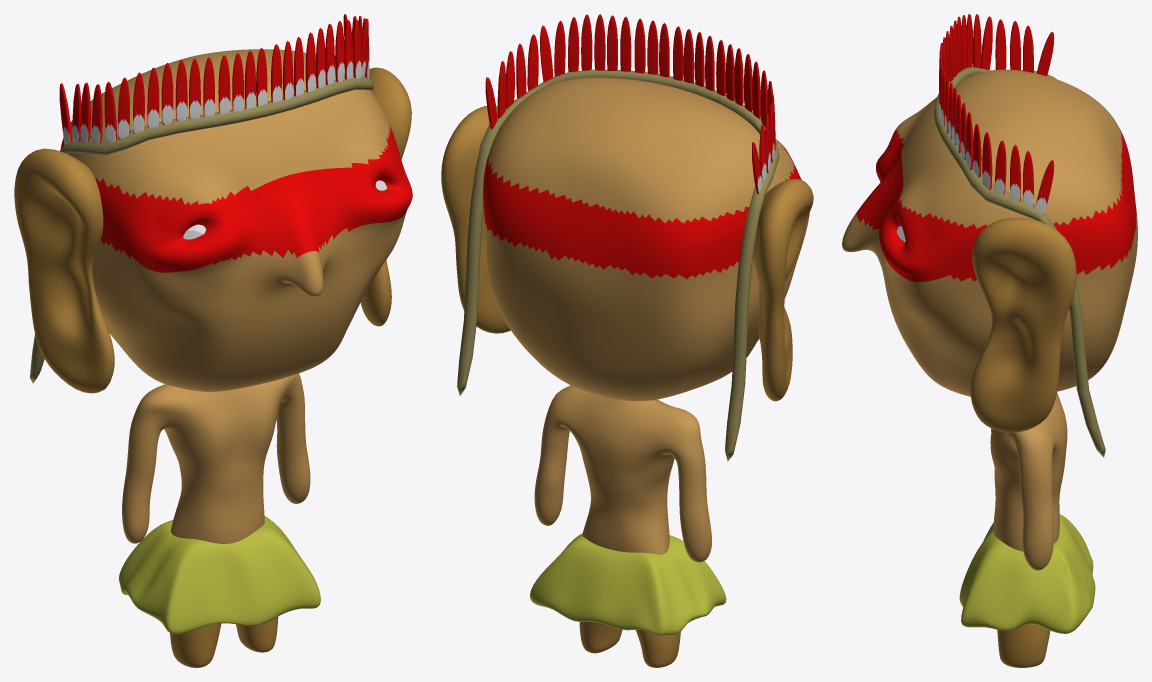
Rendered from cacique.fbx.
3 renders of one model, left to right at view 1: azimuth 30°, elevation 25°; view 2: azimuth 150°, elevation 25°; view 3: azimuth 270°, elevation 25°, orthographic. The views are drawn at different scales.
Visible parts, largest first — view 1: polySurface131, polySurface133, polySurface128, polySurface127, polySurface95, polySurface134, polySurface132, polySurface106, polySurface114, polySurface121, polySurface116, polySurface113 (+8 smaller); view 2: polySurface131, polySurface133, polySurface127, polySurface95, polySurface128, polySurface134, polySurface132, polySurface124, polySurface110, polySurface126, polySurface122, polySurface123 (+5 smaller); view 3: polySurface131, polySurface134, polySurface127, polySurface133, polySurface95, polySurface132, polySurface97, polySurface96, polySurface112, polySurface119, polySurface101, polySurface98 (+3 smaller).
Boxes of the visible parts, x1,y1,x2,y2 form: polySurface131: [60, 49, 412, 391]; polySurface133: [122, 373, 310, 543]; polySurface128: [14, 148, 114, 393]; polySurface127: [118, 516, 320, 634]; polySurface95: [30, 75, 373, 383]; polySurface134: [360, 67, 411, 326]; polySurface132: [170, 616, 278, 667]; polySurface106: [161, 63, 173, 124]; polySurface114: [175, 60, 187, 121]; polySurface121: [147, 67, 159, 127]; polySurface116: [218, 55, 230, 114]; polySurface113: [189, 58, 200, 119]; polySurface131: [483, 77, 809, 401]; polySurface133: [534, 385, 711, 562]; polySurface127: [530, 533, 726, 635]; polySurface95: [457, 69, 779, 461]; polySurface128: [753, 179, 813, 401]; polySurface134: [441, 106, 510, 333]; polySurface132: [579, 622, 680, 667]; polySurface124: [594, 14, 605, 70]; polySurface110: [581, 14, 592, 70]; polySurface126: [647, 20, 658, 74]; polySurface122: [634, 18, 645, 73]; polySurface123: [620, 17, 631, 71]; polySurface131: [842, 69, 1137, 396]; polySurface134: [970, 218, 1076, 432]; polySurface127: [959, 514, 1095, 633]; polySurface133: [990, 392, 1067, 570]; polySurface95: [933, 67, 1105, 457]; polySurface132: [997, 624, 1050, 667]; polySurface97: [1010, 144, 1020, 201]; polySurface96: [994, 140, 1006, 195]; polySurface112: [1023, 151, 1033, 206]; polySurface119: [1035, 160, 1054, 214]; polySurface101: [995, 19, 1006, 69]; polySurface98: [982, 132, 992, 189].
Size of the model in its own units: 2.49 by 4.18 by 1.89.
